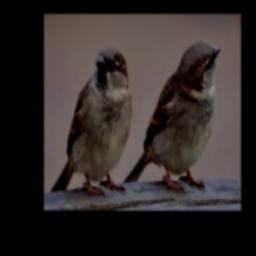Sparrow: (122, 42, 221, 192), (50, 45, 133, 196)
